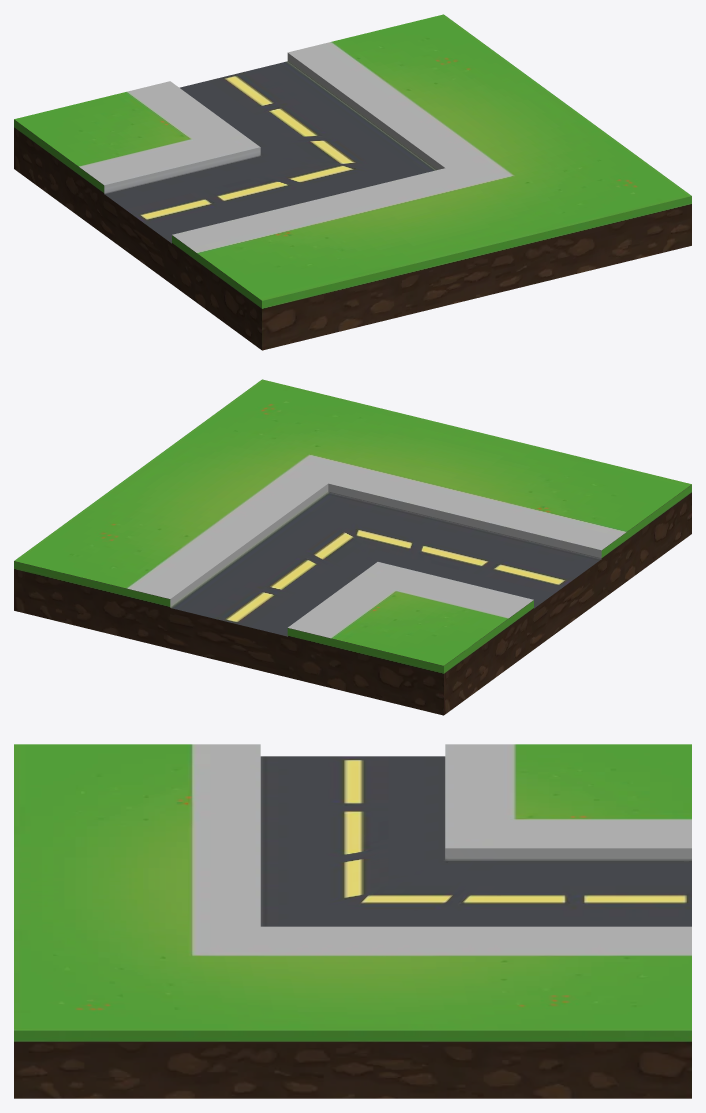
The model's file is city_road_01.glb.
3 views of the same model, one above another, from view 1: azimuth 30°, elevation 25°; view 2: azimuth 150°, elevation 25°; view 3: azimuth 270°, elevation 25° (orthographic). The views are drawn at different scales.
Visible parts, largest first — view 1: road_01; view 2: road_01; view 3: road_01.
Part boxes in pixels (x1=…): road_01: x1=14, y1=14, x2=691, y2=350; road_01: x1=14, y1=379, x2=691, y2=715; road_01: x1=14, y1=744, x2=691, y2=1098.
Bounding box in the file's own units: 22 × 2.43 × 22.
Materials: 1 (1 with a texture image).
